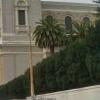Palm tree: (34, 12, 70, 56)
